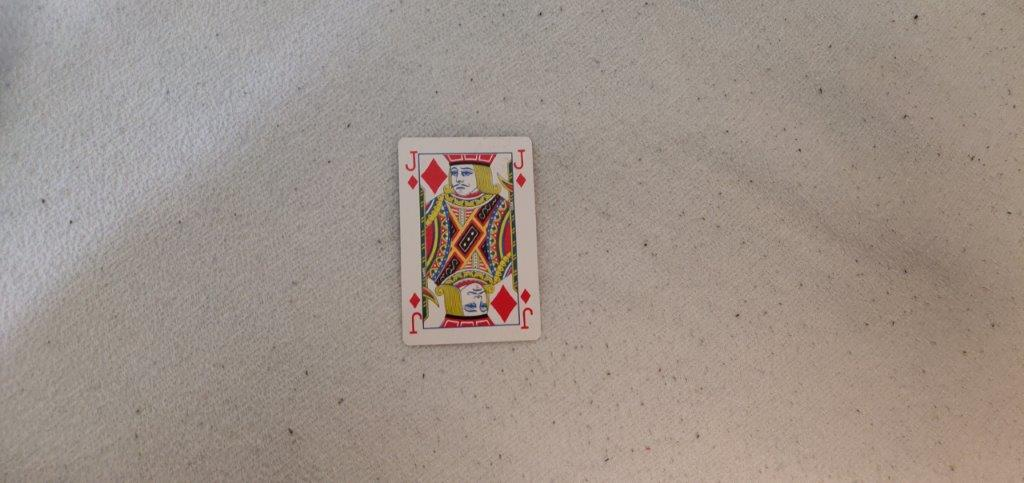JD: (402, 148, 422, 189), (510, 143, 528, 188)
